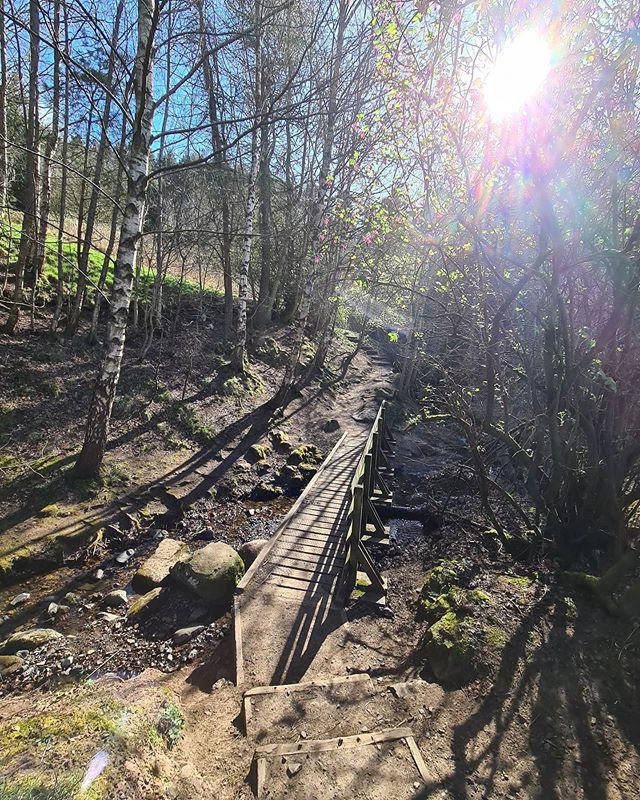bridge: (227, 410, 395, 652)
sky: (1, 1, 635, 405)
